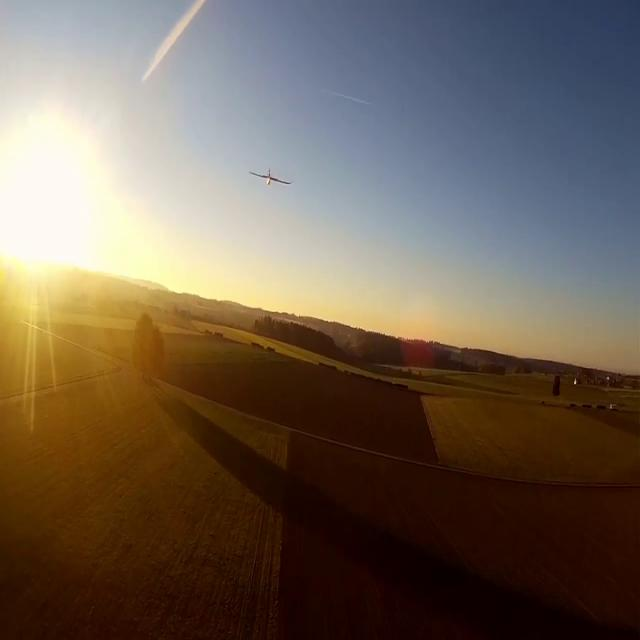iha: (249, 168, 293, 187)
